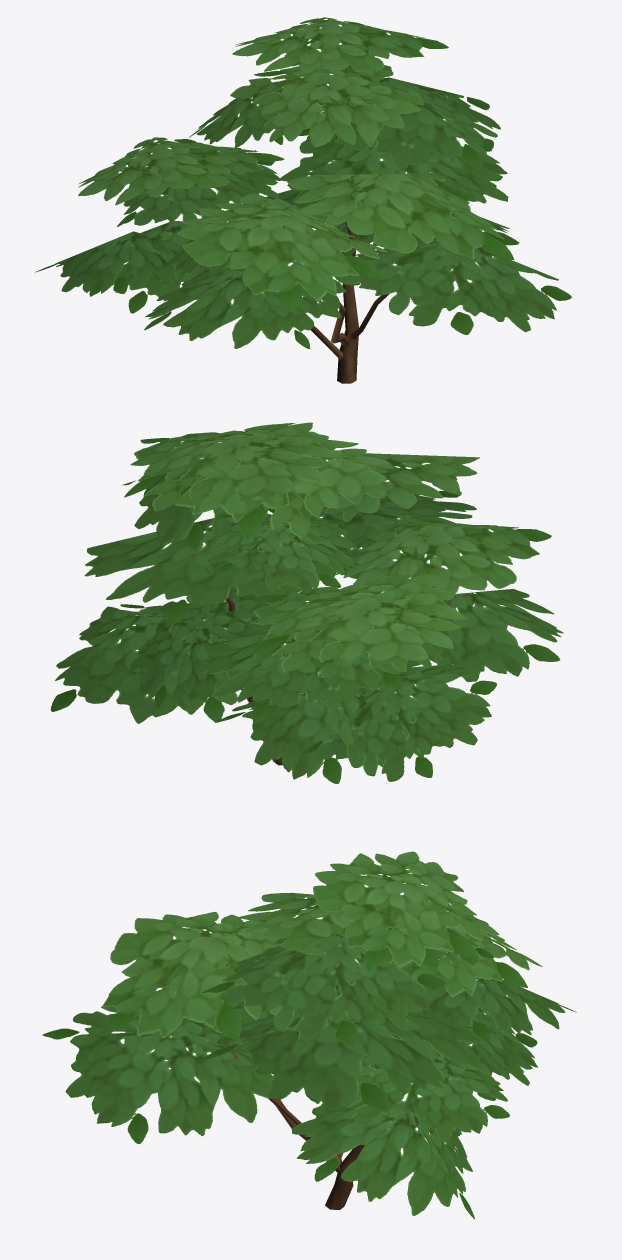
File: tongyong_toutie_10_06.fbx
3 views of the same model, one above another, from view 1: azimuth 30°, elevation 25°; view 2: azimuth 150°, elevation 25°; view 3: azimuth 270°, elevation 25° (orthographic). The views are drawn at different scales.
Parts seen in each view (by area): view 1: tongyong_toutie_10_06; view 2: tongyong_toutie_10_06; view 3: tongyong_toutie_10_06.
Boxes of the visible parts, x1,y1,x2,y2 form: tongyong_toutie_10_06: (35, 17, 571, 383); tongyong_toutie_10_06: (50, 422, 563, 783); tongyong_toutie_10_06: (42, 851, 576, 1219).
Size of the model in its own units: 799 by 519 by 849.
